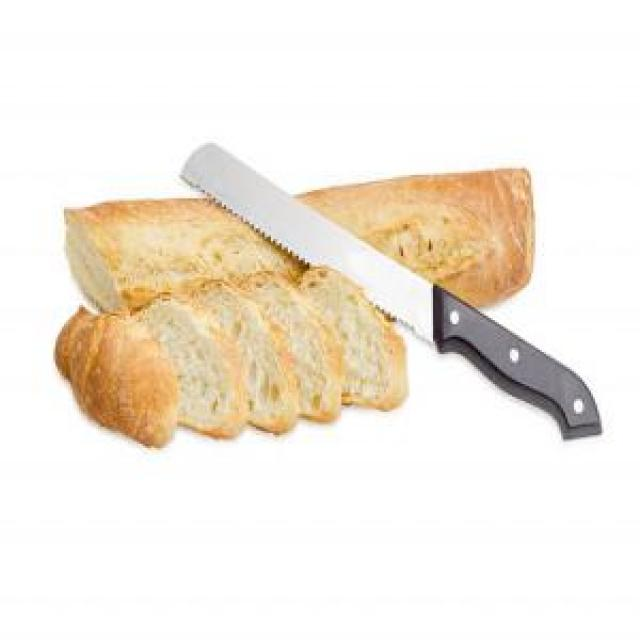knife: (177, 132, 605, 447)
